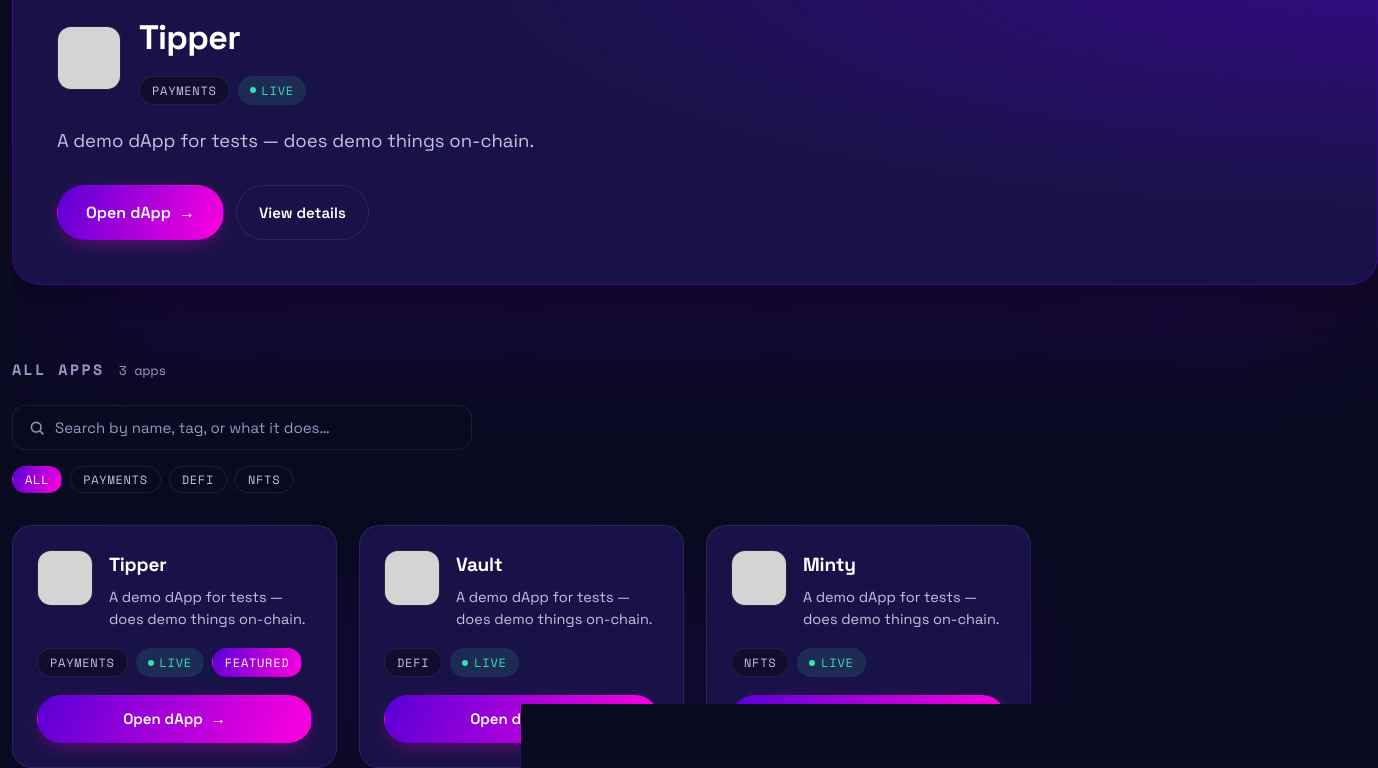
Test: <HomePage> › shows a real empty state with a working reset
The image size is (1378, 768).
(page scrolled)
Type "zzz-no-match" into the search field with test id "search-input" at (255, 428), box [55, 406, 455, 449]
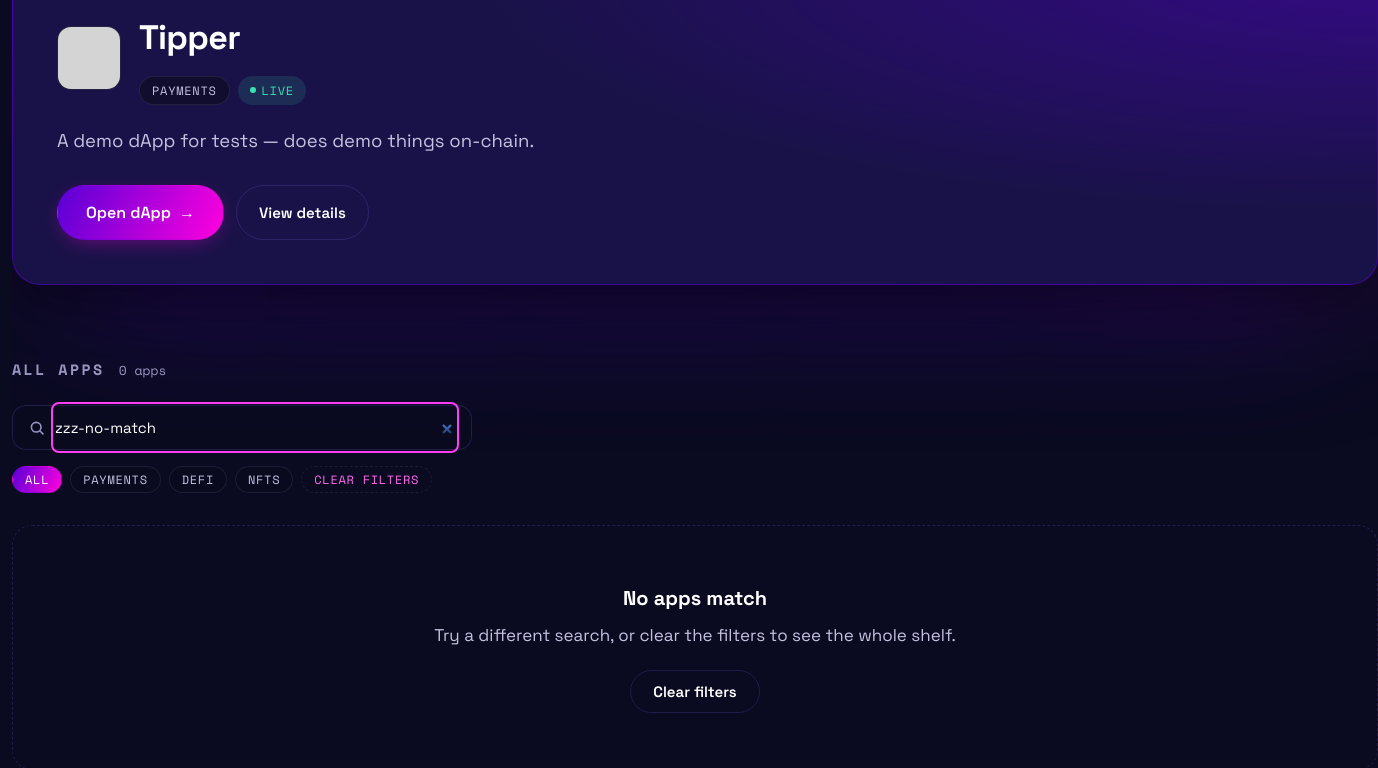
Click the button "Clear filters" below "No apps match" at (695, 691), box [630, 670, 760, 713]
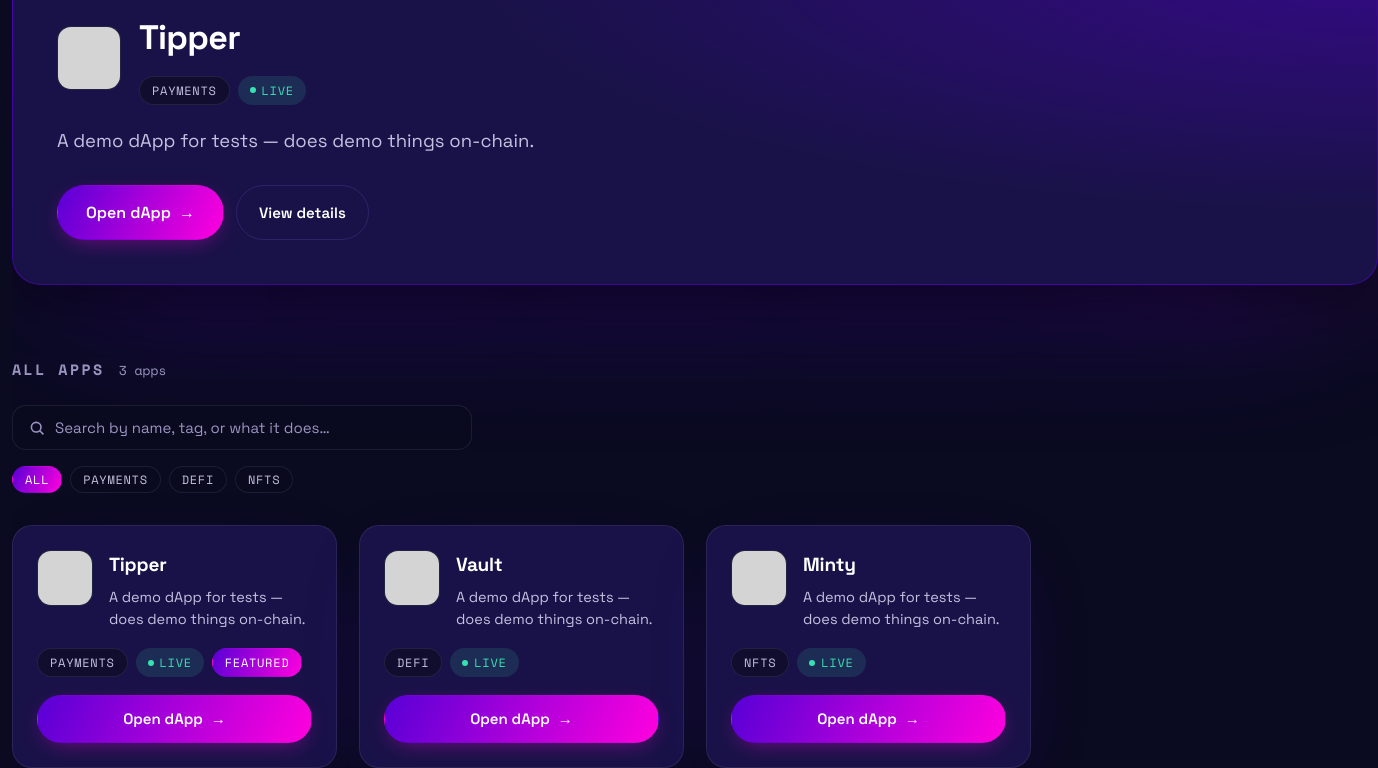
Check: the text with test id "apps-count" reads "3 apps", box [119, 360, 166, 380]
